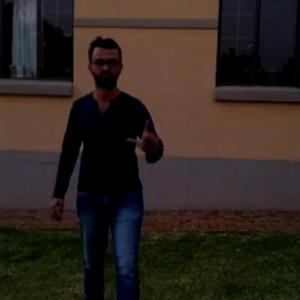land_hand: (126, 115, 164, 158)
